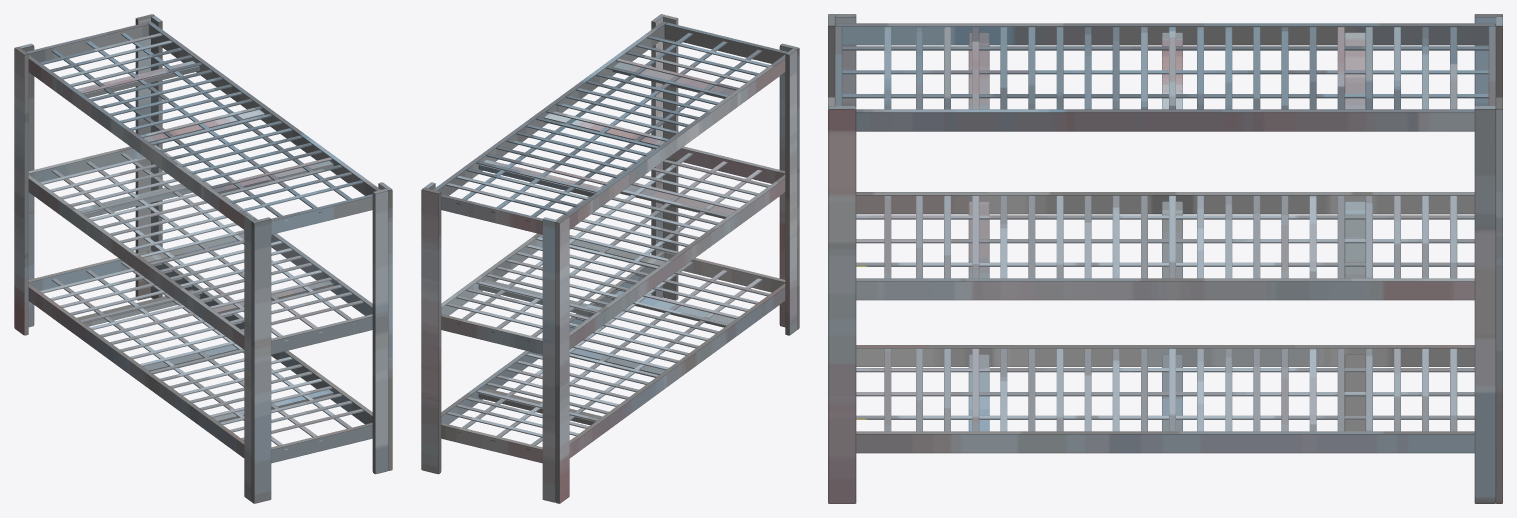
The model's file is Shelving_1.fbx.
3 views of the same model, side by side, from view 1: azimuth 30°, elevation 25°; view 2: azimuth 150°, elevation 25°; view 3: azimuth 270°, elevation 25° (orthographic). The views are drawn at different scales.
Parts seen in each view (by area): view 1: cuboid_2, cuboid_5, cuboid, cuboid_46, cuboid_15, cuboid_8, cuboid_47, cuboid_3, cuboid_9, cuboid_6, cuboid_17, cuboid_48 (+53 smaller); view 2: cuboid_6, cuboid, cuboid_46, cuboid_15, cuboid_8, cuboid_1, cuboid_3, cuboid_47, cuboid_2, cuboid_5, cuboid_9, cuboid_48 (+51 smaller); view 3: cuboid_47, cuboid_16, cuboid_9, cuboid_46, cuboid_4, cuboid_15, cuboid_8, cuboid_7, cuboid_6, cuboid_60, cuboid_61, cuboid_62 (+17 smaller).
Part boxes in pixels (bbox=[...]): cuboid_2: bbox=[251, 217, 271, 503]; cuboid_5: bbox=[372, 189, 388, 474]; cuboid: bbox=[14, 47, 28, 335]; cuboid_46: bbox=[28, 54, 247, 229]; cuboid_15: bbox=[28, 174, 244, 349]; cuboid_8: bbox=[28, 283, 244, 457]; cuboid_47: bbox=[147, 21, 380, 195]; cuboid_3: bbox=[244, 215, 255, 501]; cuboid_9: bbox=[147, 250, 372, 424]; cuboid_6: bbox=[135, 14, 154, 300]; cuboid_17: bbox=[271, 314, 372, 354]; cuboid_48: bbox=[271, 194, 372, 234]; cuboid_6: bbox=[421, 188, 441, 474]; cuboid: bbox=[555, 215, 569, 503]; cuboid_46: bbox=[566, 54, 785, 229]; cuboid_15: bbox=[569, 174, 785, 349]; cuboid_8: bbox=[569, 283, 785, 457]; cuboid_1: bbox=[542, 217, 557, 502]; cuboid_3: bbox=[785, 48, 796, 335]; cuboid_47: bbox=[433, 21, 666, 195]; cuboid_2: bbox=[779, 43, 799, 329]; cuboid_5: bbox=[663, 15, 678, 300]; cuboid_9: bbox=[441, 251, 665, 424]; cuboid_48: bbox=[664, 22, 787, 63]; cuboid_47: bbox=[856, 109, 1474, 131]; cuboid_16: bbox=[856, 278, 1474, 300]; cuboid_9: bbox=[856, 431, 1474, 453]; cuboid_46: bbox=[835, 23, 1495, 45]; cuboid_4: bbox=[828, 106, 856, 503]; cuboid_15: bbox=[856, 192, 1474, 214]; cuboid_8: bbox=[856, 345, 1474, 366]; cuboid_7: bbox=[1474, 106, 1495, 503]; cuboid_6: bbox=[1496, 97, 1502, 503]; cuboid_60: bbox=[842, 46, 1488, 50]; cuboid_61: bbox=[842, 70, 1488, 74]; cuboid_62: bbox=[842, 94, 1488, 98].
Size of the model in its own units: 100 by 194 by 300.
3 materials, 3 textured.
